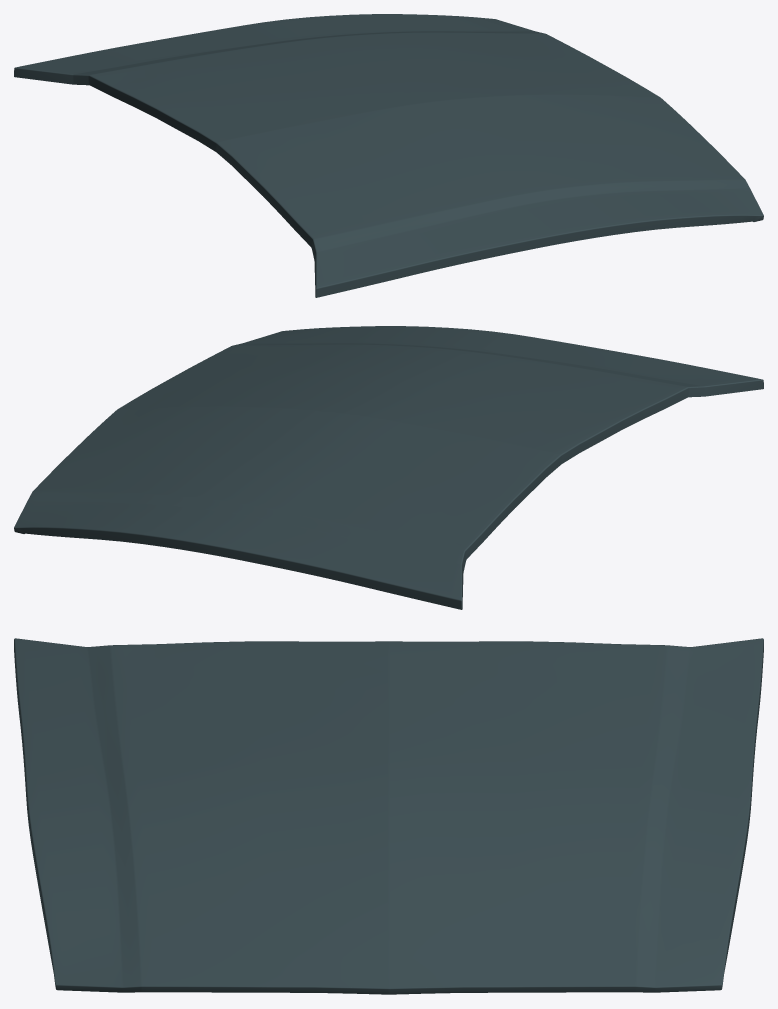
3 views of the same model, one above another, from view 1: azimuth 30°, elevation 25°; view 2: azimuth 150°, elevation 25°; view 3: azimuth 270°, elevation 25° (orthographic). The views are drawn at different scales.
Visible parts, largest first — view 1: P222_15_101B_C_1_DaS_P222_15_101B_C; view 2: P222_15_101B_C_1_DaS_P222_15_101B_C; view 3: P222_15_101B_C_1_DaS_P222_15_101B_C.
Boxes of the visible parts, x1,y1,x2,y2 form: P222_15_101B_C_1_DaS_P222_15_101B_C: [14, 14, 763, 297]; P222_15_101B_C_1_DaS_P222_15_101B_C: [14, 326, 763, 609]; P222_15_101B_C_1_DaS_P222_15_101B_C: [14, 638, 763, 994].
Bounding box in the file's own units: 144 × 22.17 × 152.
